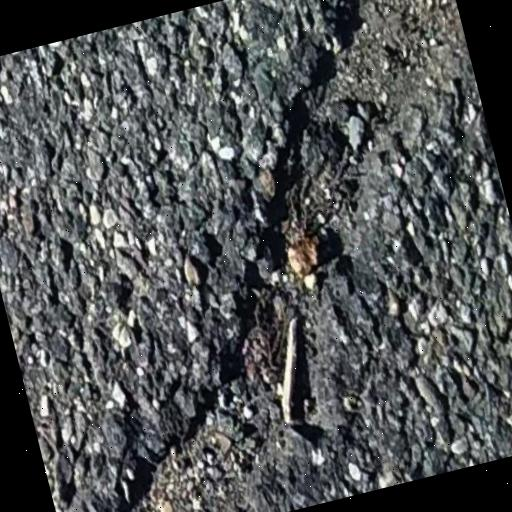spalling: (92, 0, 472, 512)
